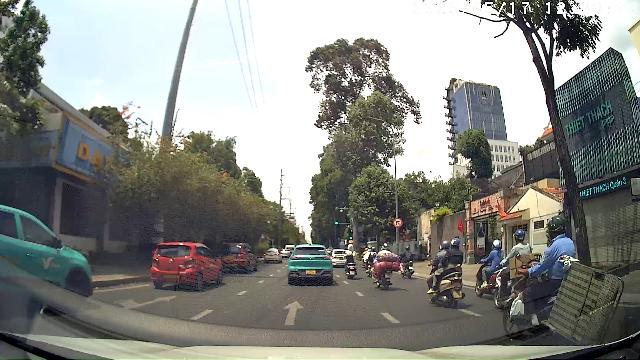123b-cam-re-phai: (392, 217, 403, 228)
